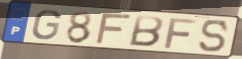8: (64, 10, 96, 44)
B: (127, 14, 165, 48)
F: (93, 13, 134, 46), (162, 17, 199, 50)
G: (30, 9, 62, 41)
S: (198, 18, 231, 53)
